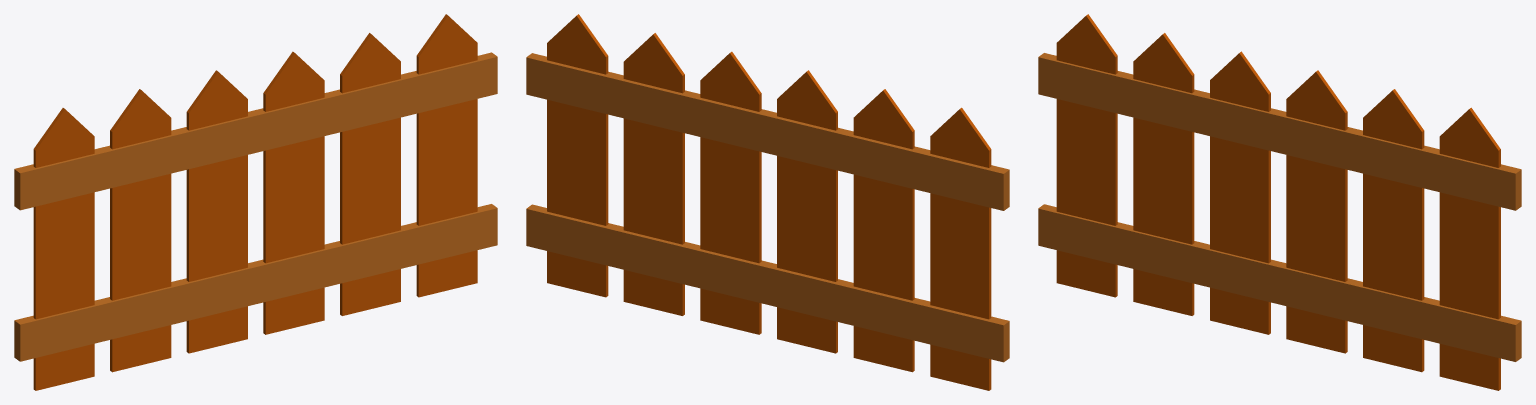
Rendered from Cerca.fbx.
3 renders of one model, left to right at view 1: azimuth 30°, elevation 25°; view 2: azimuth 150°, elevation 25°; view 3: azimuth 330°, elevation 25°, orthographic.
Visible parts, largest first — view 1: Cube; view 2: Cube; view 3: Cube.
Boxes of the visible parts, bbox=[...] form: Cube: bbox=[14, 14, 497, 390]; Cube: bbox=[526, 14, 1009, 390]; Cube: bbox=[1038, 14, 1521, 390].
Bounding box in the file's own units: 506 × 278 × 10.95.
